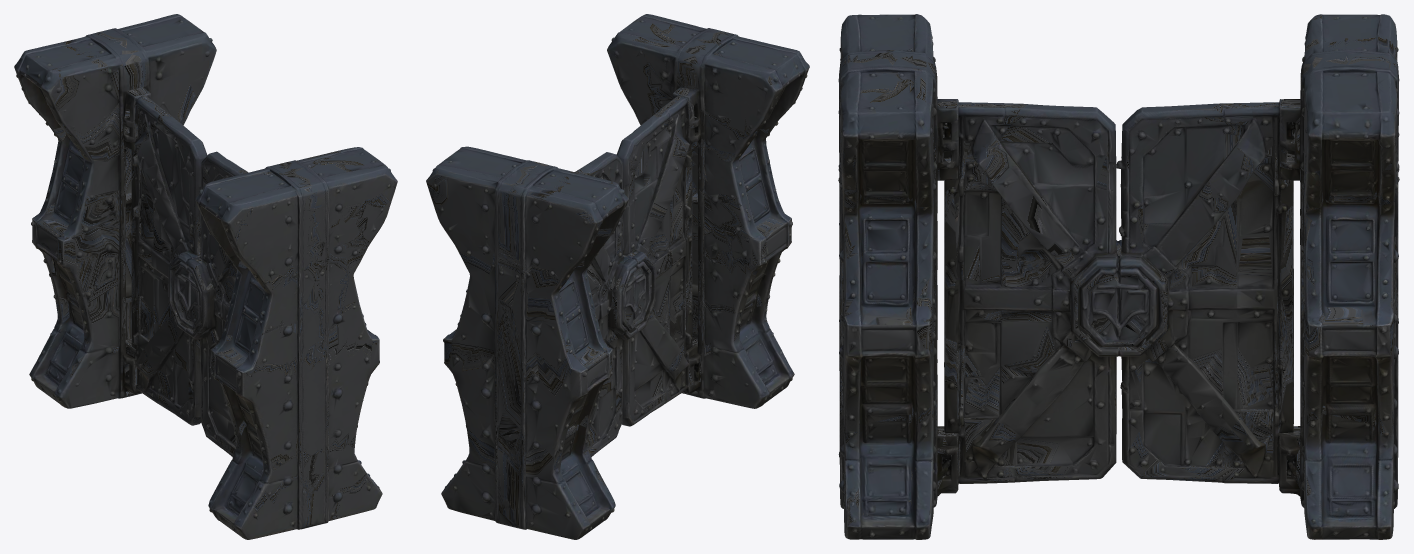
File: sci_blast_door.glb
The picture shows the model from 3 angles, left to right: view 1: azimuth 30°, elevation 25°; view 2: azimuth 150°, elevation 25°; view 3: azimuth 270°, elevation 25°; orthographic projection. The views are drawn at different scales.
Parts seen in each view (by area): view 1: tripo_node_92ab2c25-1491-43ad-a769-755fcfa0b4bc; view 2: tripo_node_92ab2c25-1491-43ad-a769-755fcfa0b4bc; view 3: tripo_node_92ab2c25-1491-43ad-a769-755fcfa0b4bc.
Part boxes in pixels (bbox=[...]): tripo_node_92ab2c25-1491-43ad-a769-755fcfa0b4bc: bbox=[14, 14, 397, 539]; tripo_node_92ab2c25-1491-43ad-a769-755fcfa0b4bc: bbox=[426, 14, 809, 539]; tripo_node_92ab2c25-1491-43ad-a769-755fcfa0b4bc: bbox=[838, 14, 1399, 539].
Size of the model in its own units: 0.4596 by 0.8702 by 1.
1 material, 1 textured.
